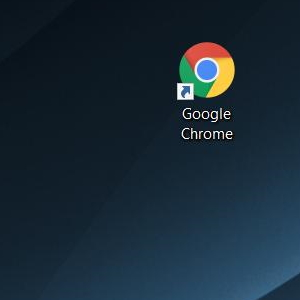chrome: (176, 41, 235, 101)
